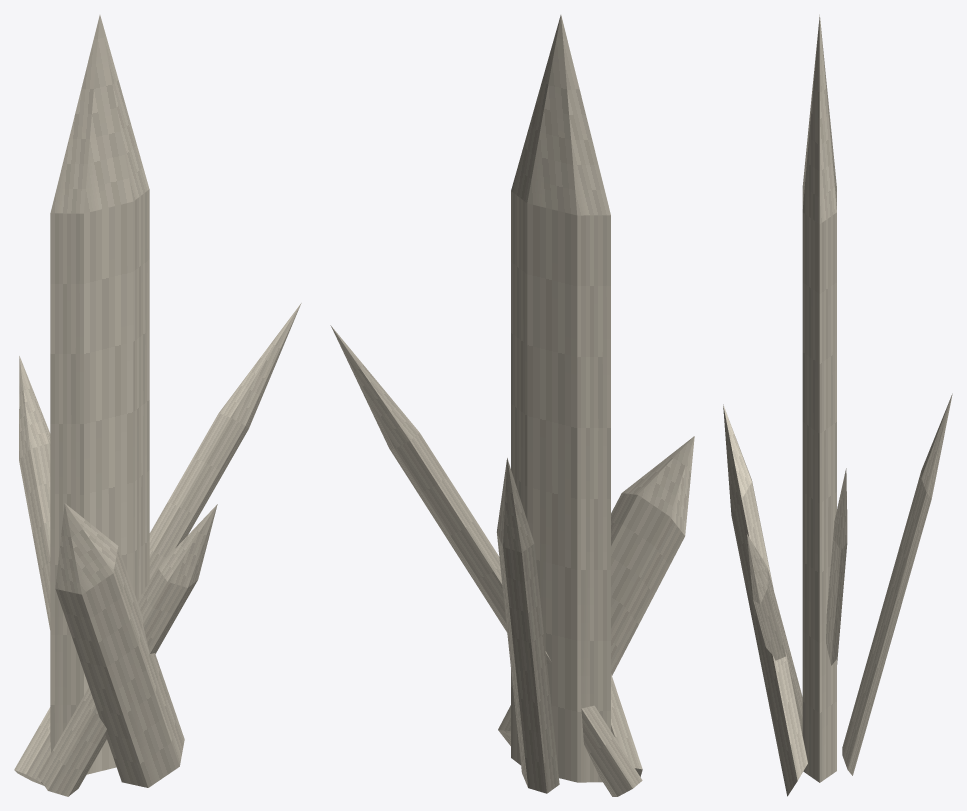
File: cave-and-crystal-networks-gypsum-blades-319f0eff.glb
The picture shows the model from 3 angles, left to right: view 1: azimuth 30°, elevation 25°; view 2: azimuth 150°, elevation 25°; view 3: azimuth 270°, elevation 25°; orthographic projection.
Parts seen in each view (by area): view 1: gypsum-blades; view 2: gypsum-blades; view 3: gypsum-blades.
Part boxes in pixels (<box>): gypsum-blades: <box>14,15,301,796</box>; gypsum-blades: <box>330,15,694,796</box>; gypsum-blades: <box>723,14,952,796</box>.
Size of the model in its own units: 0.5432 by 1.34 by 0.3635.
1 material, 1 textured.
